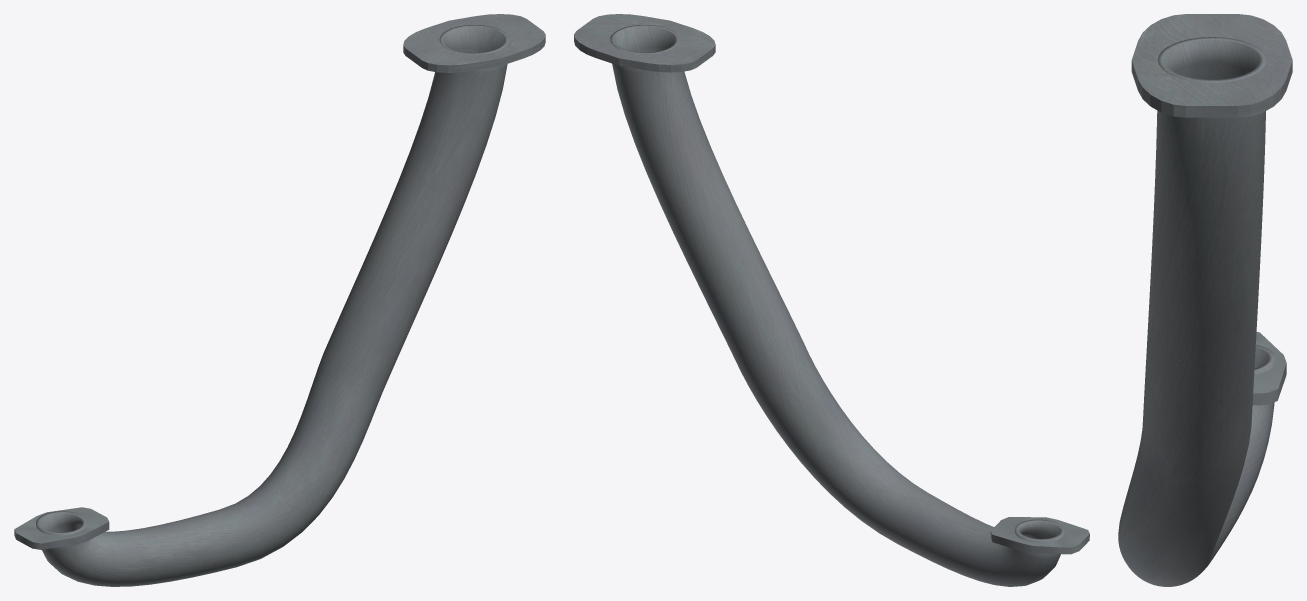
File: TurboCharger_Big_Exhaust_Inlet_Pipe.obj
3 views of the same model, side by side, from view 1: azimuth 30°, elevation 25°; view 2: azimuth 150°, elevation 25°; view 3: azimuth 270°, elevation 25° (orthographic). The views are drawn at different scales.
Parts seen in each view (by area): view 1: Exhaust_Inlet_Tube_BezierCurve.004, Connector2_Cube.004, Header-Connector.001_motor_racing_exhaust_manifold_001-sharedass; view 2: Exhaust_Inlet_Tube_BezierCurve.004, Connector2_Cube.004, Header-Connector.001_motor_racing_exhaust_manifold_001-sharedass; view 3: Exhaust_Inlet_Tube_BezierCurve.004, Connector2_Cube.004, Header-Connector.001_motor_racing_exhaust_manifold_001-sharedass.
Part boxes in pixels (x1,y1,x2,y2): Exhaust_Inlet_Tube_BezierCurve.004: (36,25,509,586); Connector2_Cube.004: (403,14,545,72); Header-Connector.001_motor_racing_exhaust_manifold_001-sharedass: (14,507,109,549); Exhaust_Inlet_Tube_BezierCurve.004: (610,25,1064,586); Connector2_Cube.004: (574,14,715,72); Header-Connector.001_motor_racing_exhaust_manifold_001-sharedass: (990,517,1089,554); Exhaust_Inlet_Tube_BezierCurve.004: (1118,37,1275,586); Connector2_Cube.004: (1131,14,1292,117); Header-Connector.001_motor_racing_exhaust_manifold_001-sharedass: (1252,332,1286,405).
Bounding box in the file's own units: 0.4197 × 0.3635 × 0.0802.
